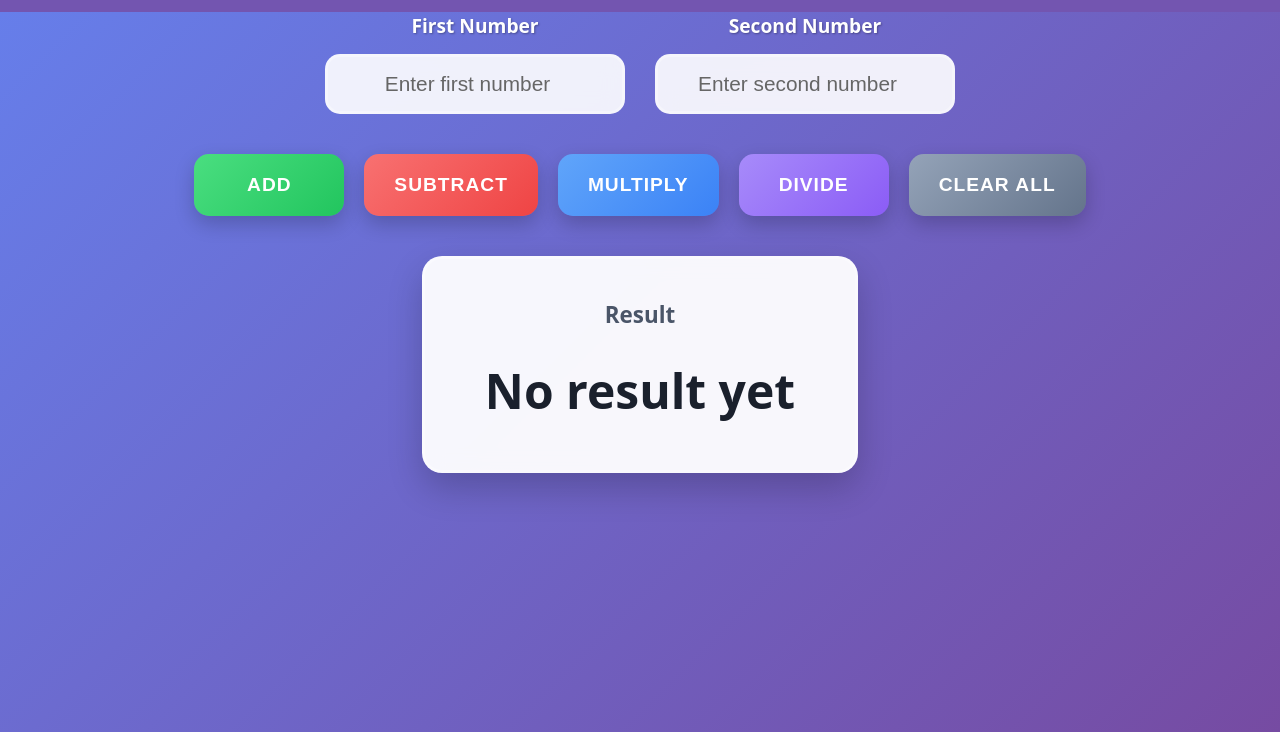
Test case: performs addition correctly
The image size is (1280, 732).
Type "5" into the number field with placeholder "Enter first number". click: point(475, 84)
box: [325, 54, 625, 114]
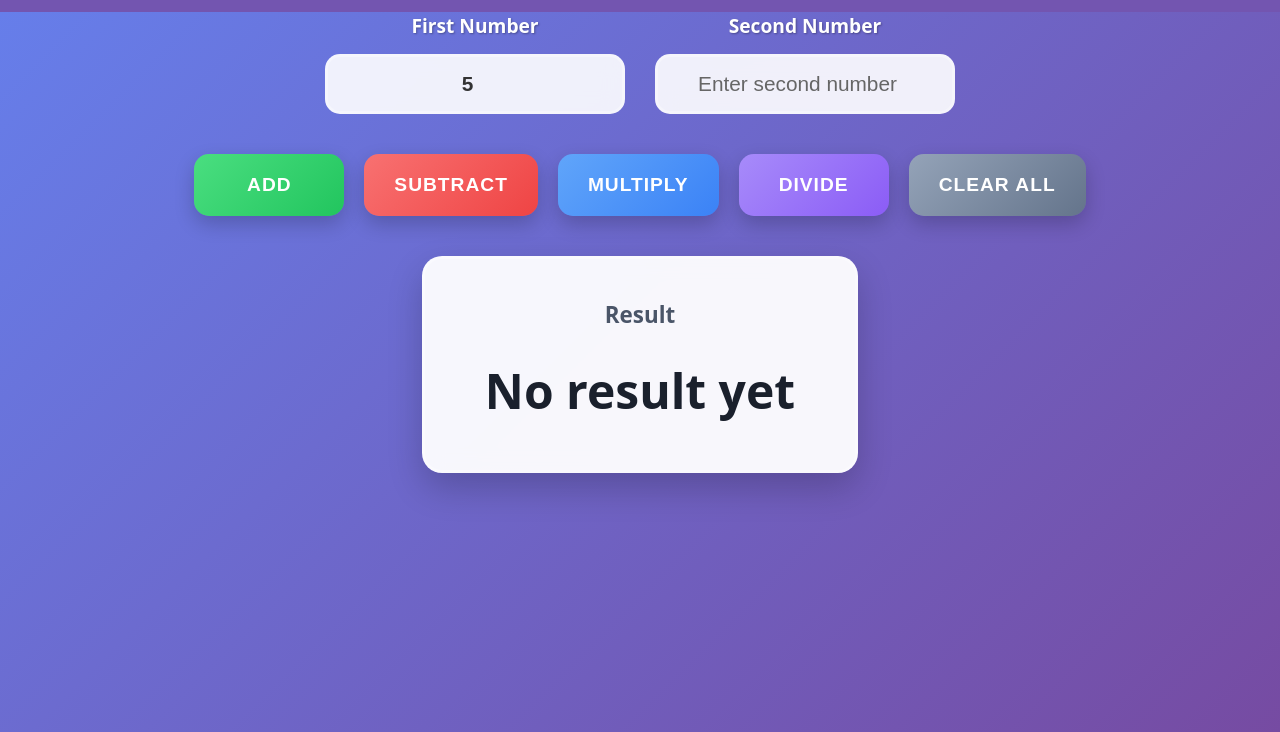
Type "3" into the number field with placeholder "Enter second number". click: point(805, 84)
box: [655, 54, 955, 114]
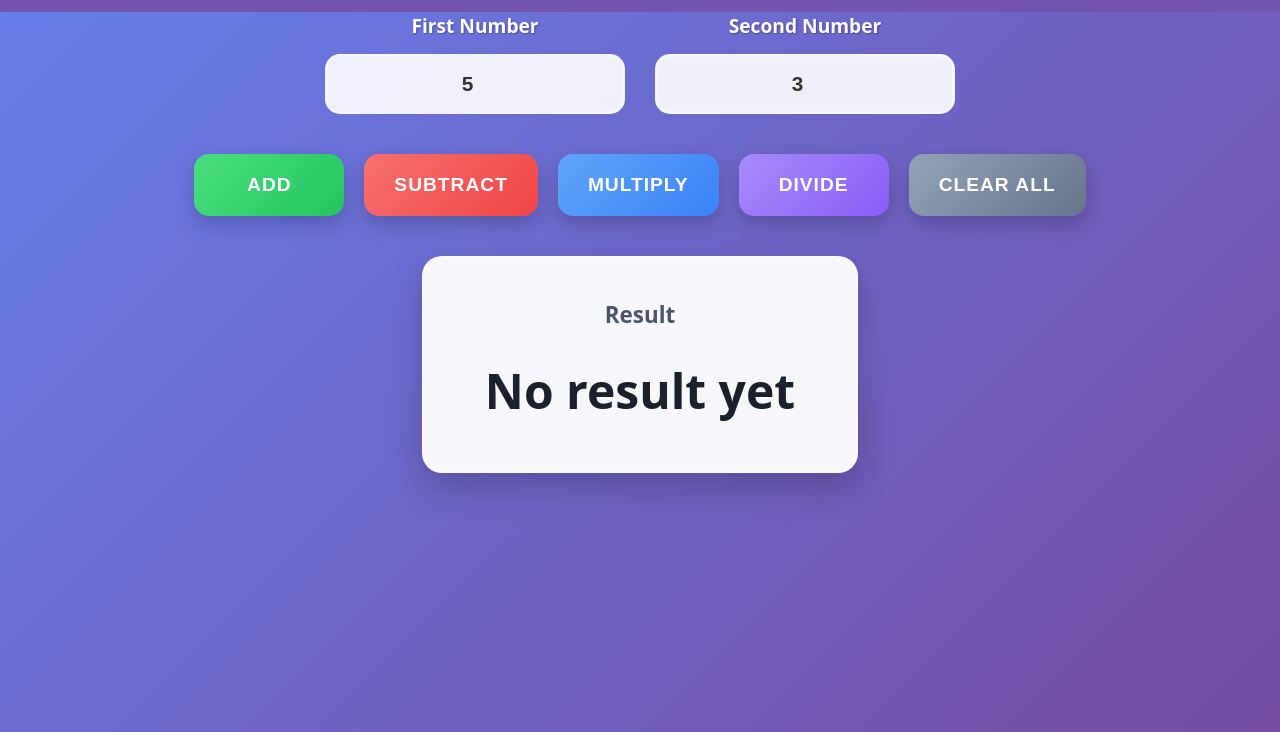
Click the button "Add". click: point(269, 185)
box: [194, 154, 344, 216]
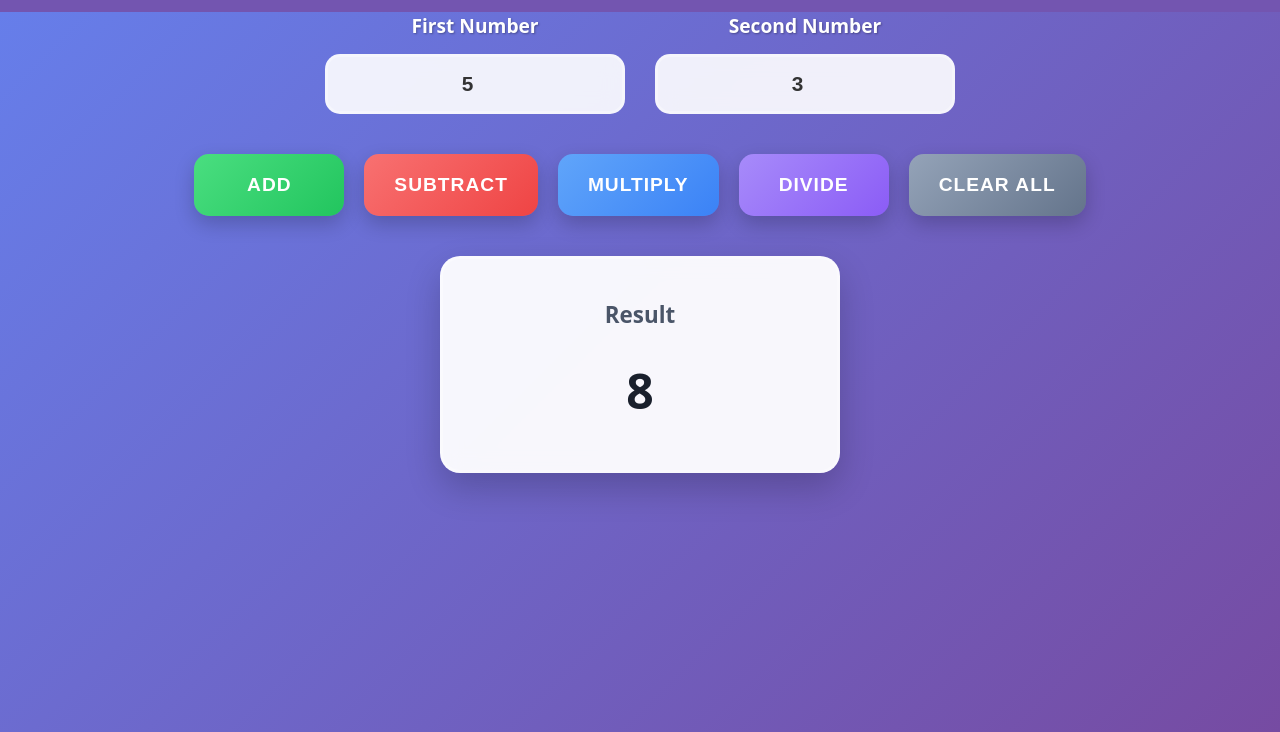
Now the text "8" is shown, box [626, 358, 654, 422]
